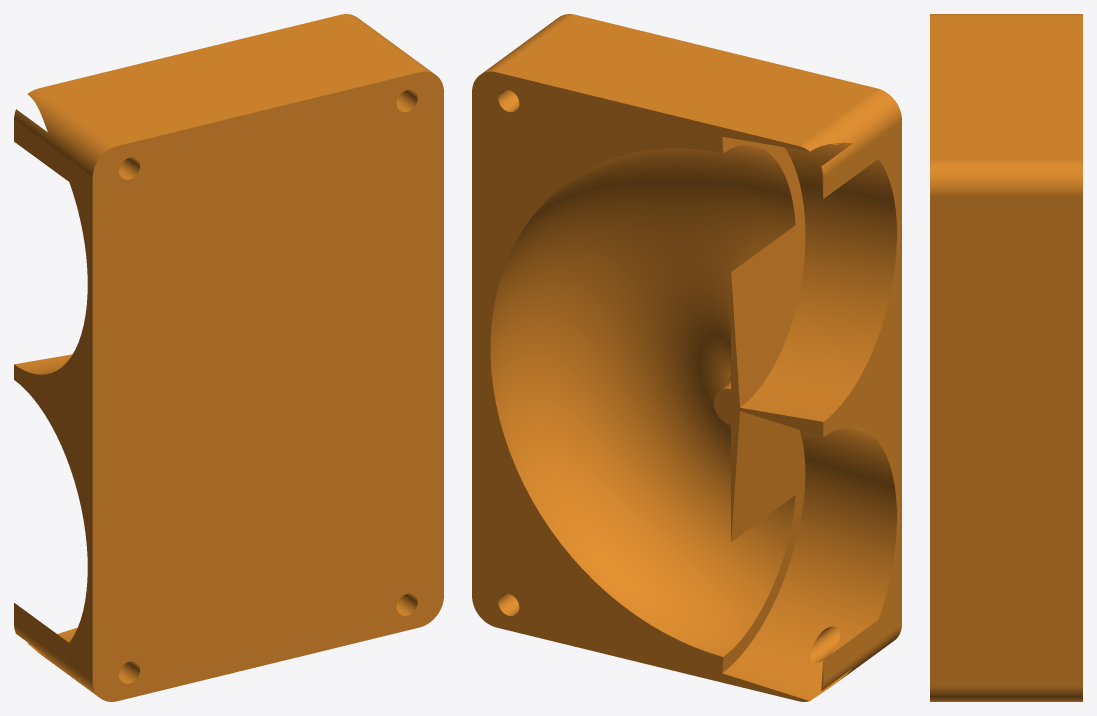
The model's file is mag_u_dir_f.glb.
The picture shows the model from 3 angles, left to right: view 1: azimuth 30°, elevation 25°; view 2: azimuth 150°, elevation 25°; view 3: azimuth 270°, elevation 25°; orthographic projection. The views are drawn at different scales.
Visible parts, largest first — view 1: mag_u_dir_f; view 2: mag_u_dir_f; view 3: mag_u_dir_f.
Boxes of the visible parts, x1,y1,x2,y2 form: mag_u_dir_f: (14, 14, 443, 701); mag_u_dir_f: (472, 14, 901, 701); mag_u_dir_f: (930, 14, 1082, 701).
Size of the model in its own units: 57.2 by 86.4 by 22.2.
